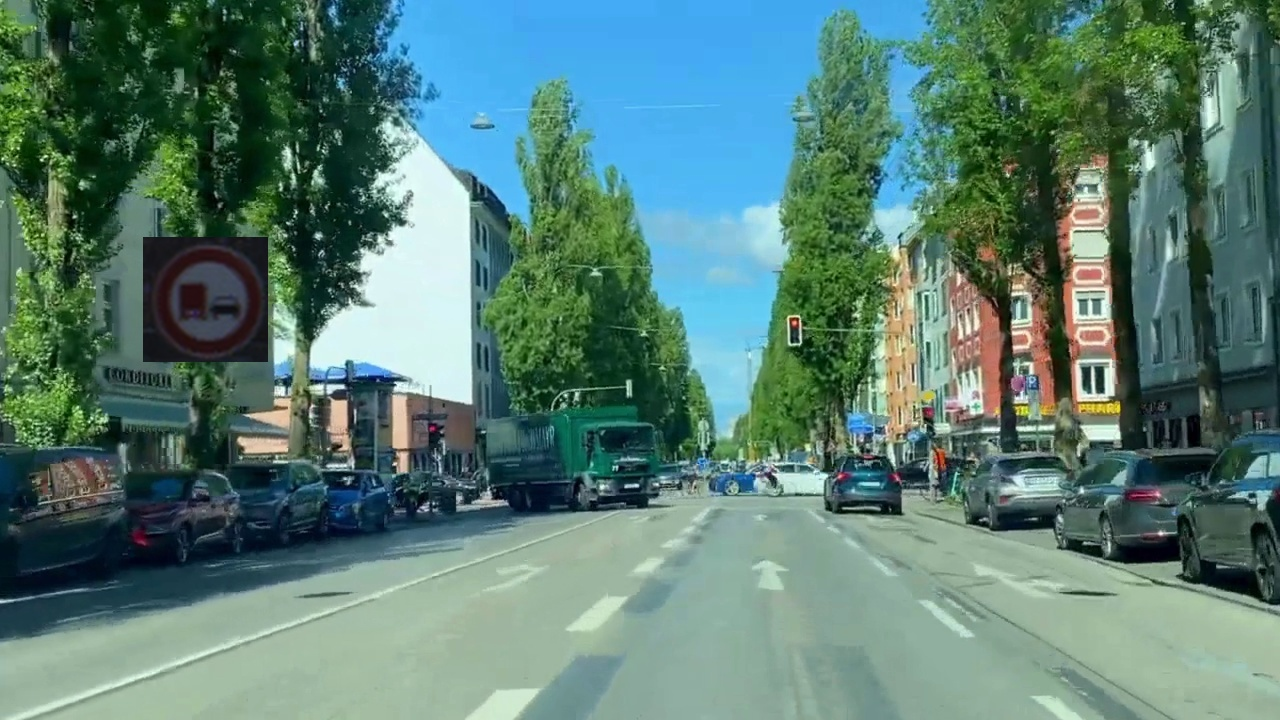No pass >3.5t: (143, 237, 268, 362)
